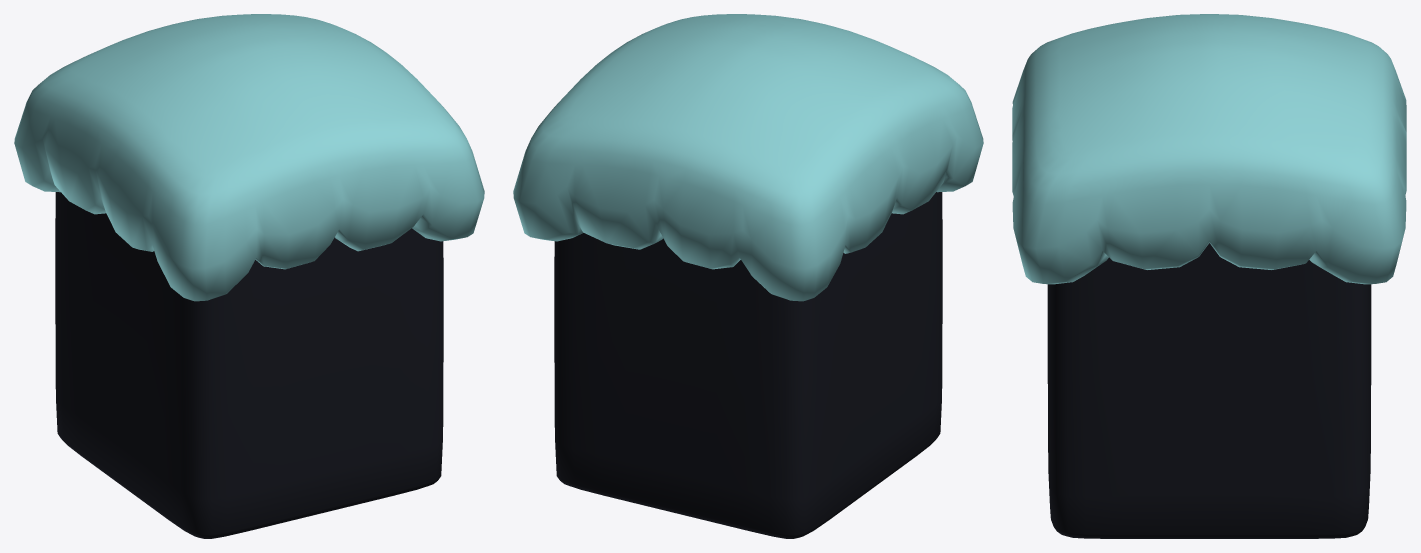
Rendered from sm_Wall_Snowy01.fbx.
3 renders of one model, left to right at view 1: azimuth 30°, elevation 25°; view 2: azimuth 150°, elevation 25°; view 3: azimuth 270°, elevation 25°, orthographic. The views are drawn at different scales.
Parts seen in each view (by area): view 1: sm_Wall_Snowy01; view 2: sm_Wall_Snowy01; view 3: sm_Wall_Snowy01.
Boxes of the visible parts, <box> form: sm_Wall_Snowy01: <box>14,14,484,538</box>; sm_Wall_Snowy01: <box>513,14,983,538</box>; sm_Wall_Snowy01: <box>1012,14,1406,538</box>.
Bounding box in the file's own units: 6.52 × 8.3 × 6.84.
